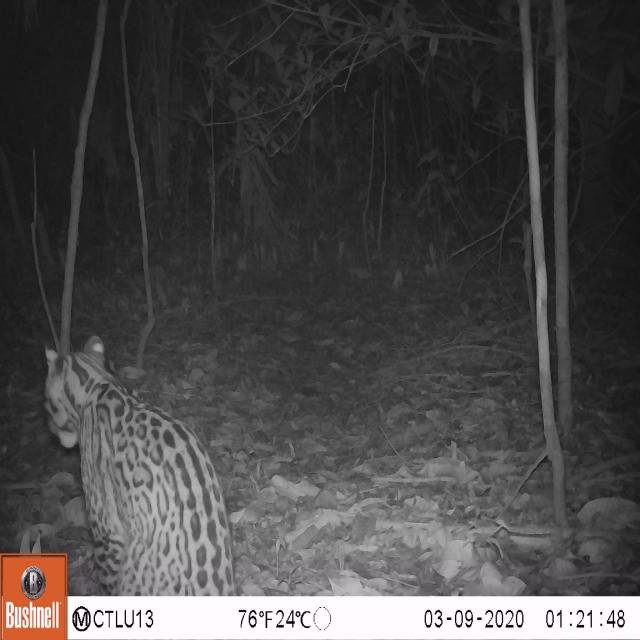Ocelote: (34, 328, 250, 595)
